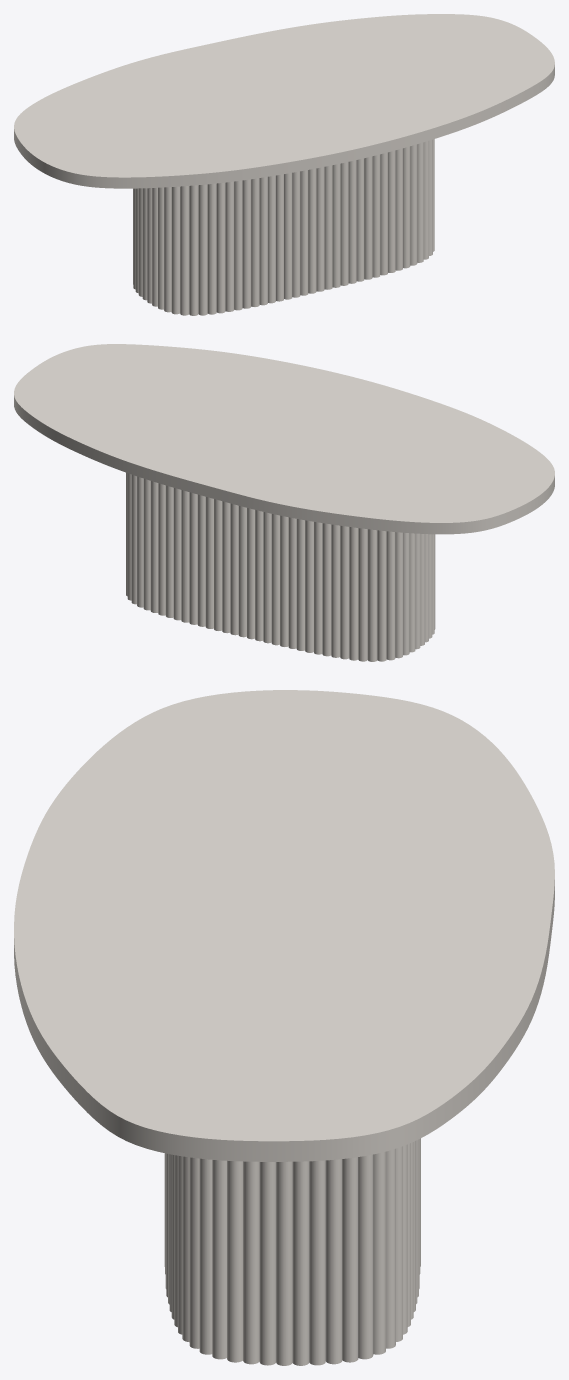
File: pearlwhite_danish_standard_newtable.glb
The picture shows the model from 3 angles, top to bottom: view 1: azimuth 30°, elevation 25°; view 2: azimuth 150°, elevation 25°; view 3: azimuth 270°, elevation 25°; orthographic projection. The views are drawn at different scales.
Visible parts, largest first — view 1: standard_danish, plane; view 2: standard_danish, plane; view 3: standard_danish, plane.
Part boxes in pixels (x1=…): standard_danish: x1=14, y1=14, x2=554, y2=188; plane: x1=133, y1=139, x2=434, y2=315; standard_danish: x1=14, y1=344, x2=554, y2=534; plane: x1=126, y1=472, x2=435, y2=661; standard_danish: x1=14, y1=690, x2=554, y2=1161; plane: x1=164, y1=1138, x2=420, y2=1365.
Bounding box in the file's own units: 7.5 × 2.5 × 3.8.
2 materials, 2 textured.
